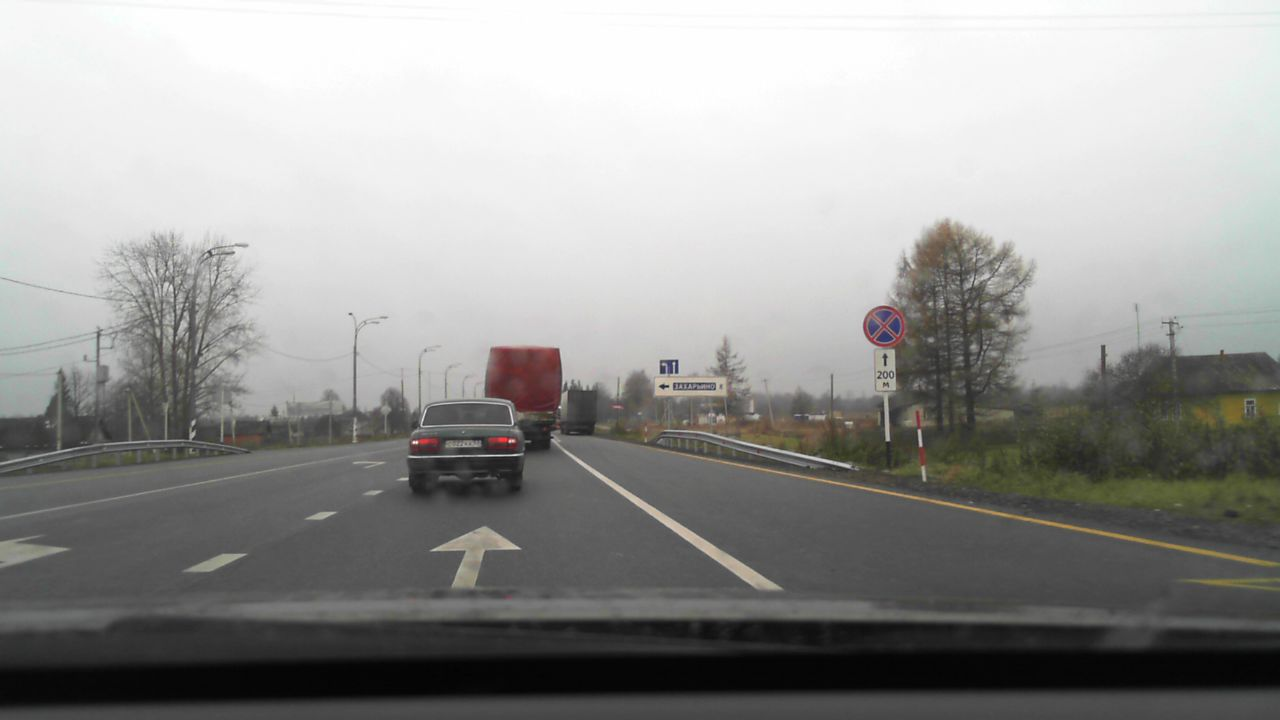No Parking: (862, 305, 905, 347)
